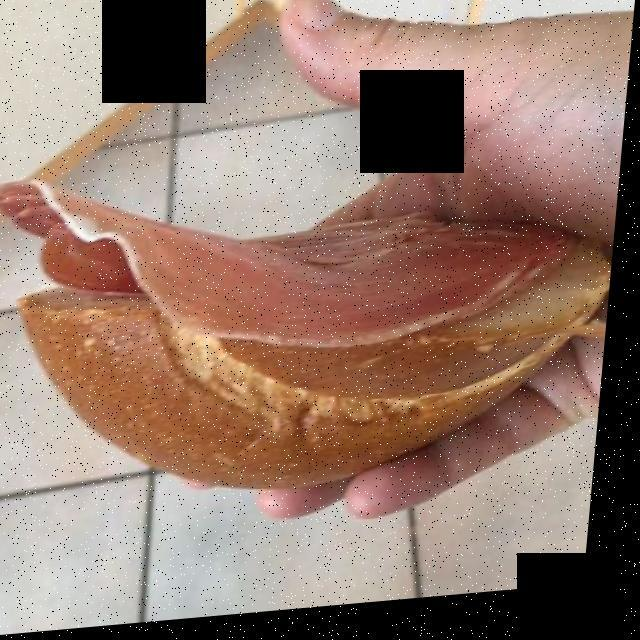bread: (17, 262, 603, 503)
ham: (0, 183, 571, 355)
